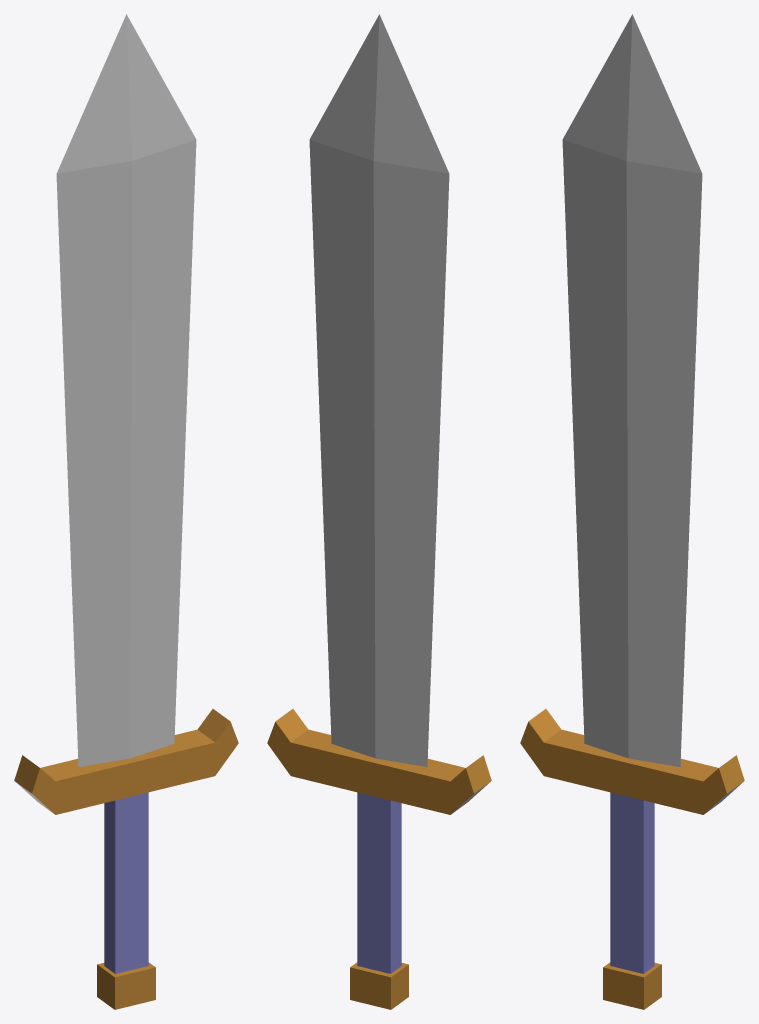
File: SWORD.fbx
3 renders of one model, left to right at view 1: azimuth 30°, elevation 25°; view 2: azimuth 150°, elevation 25°; view 3: azimuth 330°, elevation 25°, orthographic.
Visible parts, largest first — view 1: SWORD; view 2: SWORD; view 3: SWORD.
Part boxes in pixels (bbox=[...]): SWORD: bbox=[14, 14, 238, 1009]; SWORD: bbox=[267, 14, 491, 1009]; SWORD: bbox=[520, 14, 744, 1009].
Bounding box in the file's own units: 27.37 × 124 × 4.07.
